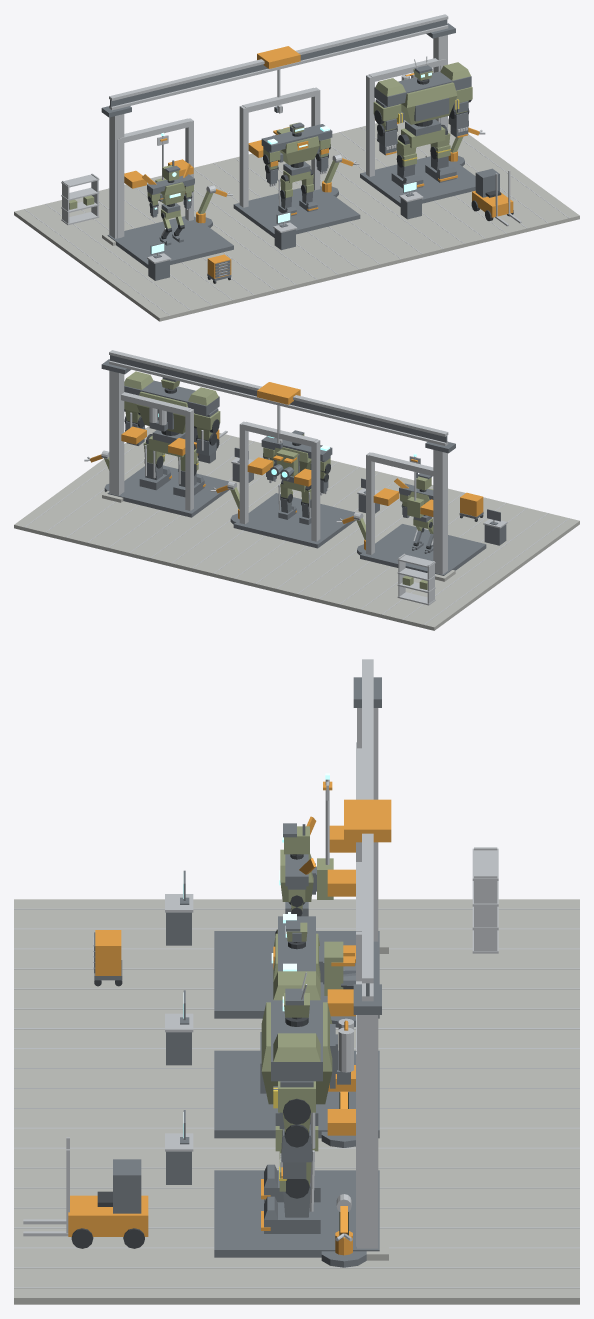
The model's file is mech-hangar-and-battle-frames-three-fram-e2d28e36-starter-scene__26999.glb.
3 views of the same model, one above another, from view 1: azimuth 30°, elevation 25°; view 2: azimuth 150°, elevation 25°; view 3: azimuth 270°, elevation 25° (orthographic). The views are drawn at different scales.
Parts seen in each view (by area): view 1: 002-hangar-floor-tile/0, 008-hangar-floor-tile/0, 011-hangar-floor-tile/0, 005-hangar-floor-tile/0, 014-hangar-floor-tile/0, 015-maintenance-cradle/0, 024-maintenance-cradle/0, 000-hangar-floor-tile/0, 006-hangar-floor-tile/0, 033-maintenance-cradle/0, 001-hangar-floor-tile/0, 024-maintenance-cradle/1 (+32 smaller); view 2: 006-hangar-floor-tile/0, 003-hangar-floor-tile/0, 012-hangar-floor-tile/0, 009-hangar-floor-tile/0, 000-hangar-floor-tile/0, 002-hangar-floor-tile/0, 024-maintenance-cradle/0, 015-maintenance-cradle/0, 024-maintenance-cradle/1, 033-maintenance-cradle/0, 001-hangar-floor-tile/0, 008-hangar-floor-tile/0 (+30 smaller); view 3: 012-hangar-floor-tile/0, 009-hangar-floor-tile/0, 003-hangar-floor-tile/0, 006-hangar-floor-tile/0, 008-hangar-floor-tile/0, 014-hangar-floor-tile/0, 000-hangar-floor-tile/0, 005-hangar-floor-tile/0, 002-hangar-floor-tile/0, 011-hangar-floor-tile/0, 013-hangar-floor-tile/0, 033-maintenance-cradle/0 (+42 smaller).
Boxes of the visible parts, x1,y1,x2,y2 form: 002-hangar-floor-tile/0: [111, 262, 243, 321]; 008-hangar-floor-tile/0: [289, 221, 411, 280]; 011-hangar-floor-tile/0: [363, 200, 495, 259]; 005-hangar-floor-tile/0: [195, 243, 327, 300]; 014-hangar-floor-tile/0: [448, 180, 579, 239]; 015-maintenance-cradle/0: [107, 216, 233, 268]; 024-maintenance-cradle/0: [233, 186, 360, 237]; 000-hangar-floor-tile/0: [14, 192, 144, 250]; 006-hangar-floor-tile/0: [194, 153, 301, 205]; 033-maintenance-cradle/0: [360, 156, 475, 206]; 001-hangar-floor-tile/0: [62, 237, 194, 285]; 024-maintenance-cradle/1: [239, 87, 320, 207]; 006-hangar-floor-tile/0: [182, 530, 314, 589]; 003-hangar-floor-tile/0: [266, 551, 398, 610]; 012-hangar-floor-tile/0: [14, 489, 146, 548]; 009-hangar-floor-tile/0: [98, 510, 229, 569]; 000-hangar-floor-tile/0: [350, 572, 482, 630]; 002-hangar-floor-tile/0: [449, 500, 579, 559]; 024-maintenance-cradle/0: [233, 493, 355, 548]; 015-maintenance-cradle/0: [360, 524, 486, 575]; 024-maintenance-cradle/1: [239, 421, 320, 541]; 033-maintenance-cradle/0: [107, 465, 229, 517]; 001-hangar-floor-tile/0: [435, 545, 531, 594]; 008-hangar-floor-tile/0: [292, 460, 411, 514]; 012-hangar-floor-tile/0: [391, 1218, 579, 1304]; 009-hangar-floor-tile/0: [391, 1138, 579, 1217]; 003-hangar-floor-tile/0: [391, 979, 579, 1058]; 006-hangar-floor-tile/0: [391, 1058, 579, 1138]; 008-hangar-floor-tile/0: [14, 1058, 202, 1138]; 014-hangar-floor-tile/0: [14, 1218, 202, 1304]; 000-hangar-floor-tile/0: [391, 899, 579, 978]; 005-hangar-floor-tile/0: [14, 979, 202, 1058]; 002-hangar-floor-tile/0: [14, 899, 202, 978]; 011-hangar-floor-tile/0: [14, 1138, 202, 1217]; 013-hangar-floor-tile/0: [202, 1218, 391, 1304]; 033-maintenance-cradle/0: [214, 1170, 379, 1257].
Bounding box in the file's own units: 20 × 6.8 × 12.
